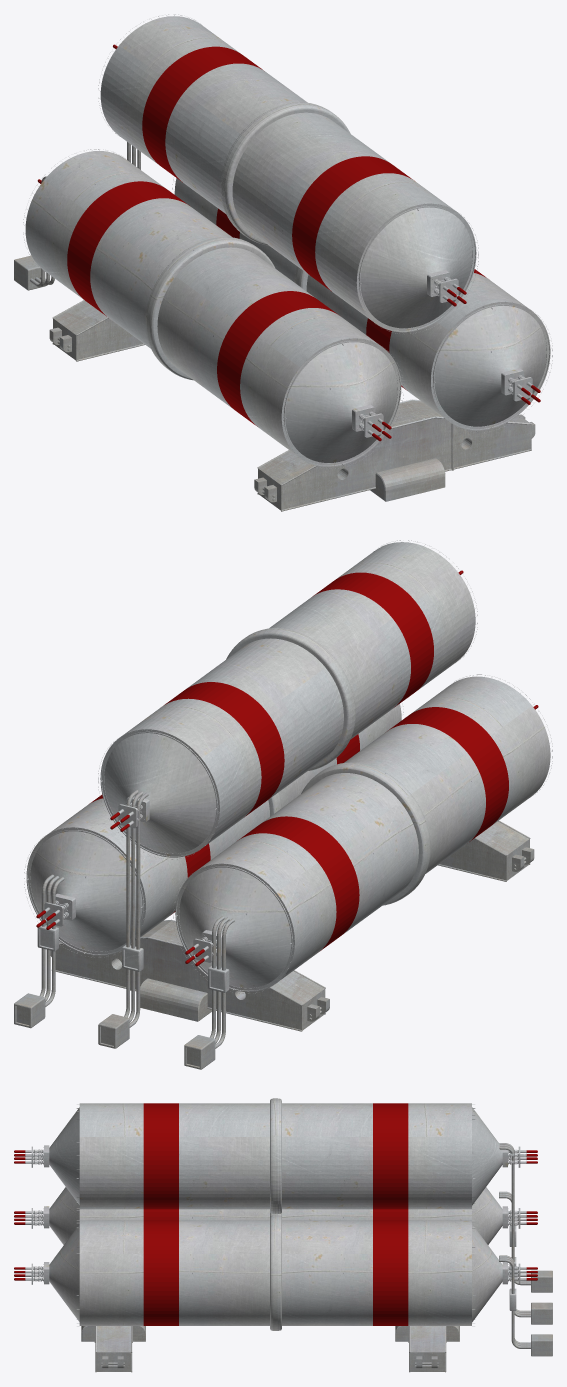
The model's file is guanzizuhe.fbx.
The picture shows the model from 3 angles, top to bottom: view 1: azimuth 30°, elevation 25°; view 2: azimuth 150°, elevation 25°; view 3: azimuth 270°, elevation 25°; orthographic projection. The views are drawn at different scales.
Parts seen in each view (by area): view 1: 21-01, 对象016, 对象013, 对象003, 对象006, 对象004, 对象005, 对象014; view 2: 21-01, 对象016, 对象013, 对象015, 对象006, 对象004, 对象003, 对象005, 对象014; view 3: 21-01, 对象016, 对象013, 对象003, 对象004, 对象001, 对象002, 对象014, 对象015, 对象005, 对象006.
Boxes of the visible parts, <box> form: 21-01: <box>23,14,552,468</box>; 对象016: <box>100,16,476,332</box>; 对象013: <box>49,300,535,511</box>; 对象003: <box>142,46,262,182</box>; 对象006: <box>67,181,189,316</box>; 对象004: <box>292,156,414,291</box>; 对象005: <box>217,291,337,426</box>; 对象014: <box>14,255,45,290</box>; 21-01: <box>24,540,552,993</box>; 对象016: <box>100,542,475,857</box>; 对象013: <box>50,820,534,1031</box>; 对象015: <box>39,790,234,1048</box>; 对象006: <box>237,816,359,950</box>; 对象004: <box>312,572,433,707</box>; 对象003: <box>163,682,284,817</box>; 对象005: <box>388,707,508,841</box>; 对象014: <box>14,993,215,1069</box>; 21-01: <box>25,1104,526,1352</box>; 对象016: <box>49,1098,502,1214</box>; 对象013: <box>81,1326,459,1372</box>; 对象003: <box>373,1103,408,1209</box>; 对象004: <box>143,1103,178,1209</box>; 对象001: <box>373,1220,408,1325</box>; 对象002: <box>143,1220,178,1325</box>; 对象014: <box>531,1270,552,1356</box>; 对象015: <box>499,1143,530,1348</box>; 对象005: <box>143,1209,178,1220</box>; 对象006: <box>373,1209,408,1220</box>.
Bounding box in the file's own units: 32.84 × 33.15 × 71.46.
4 materials, 3 textured.
